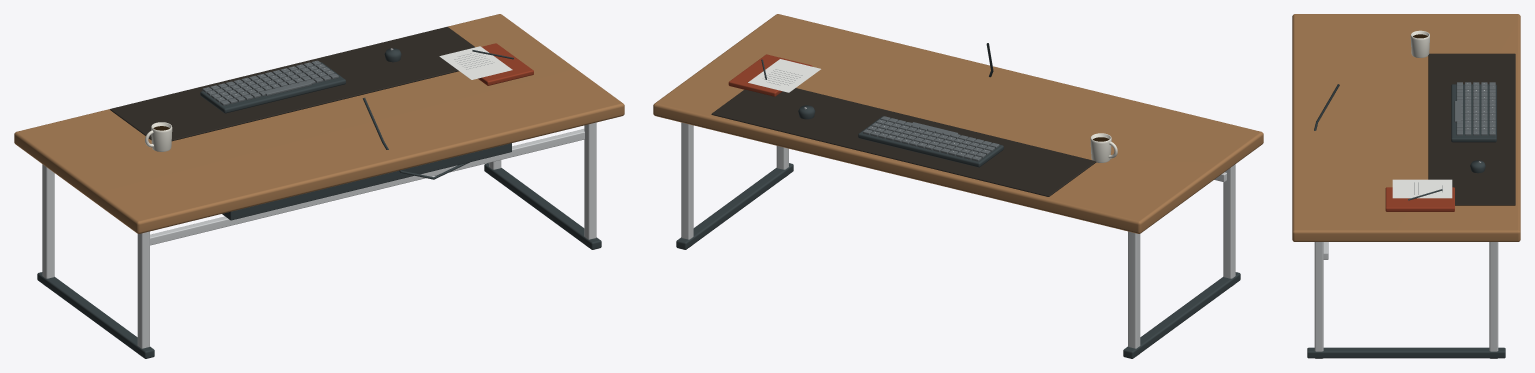
File: OfficeDesk.fbx
3 views of the same model, side by side, from view 1: azimuth 30°, elevation 25°; view 2: azimuth 150°, elevation 25°; view 3: azimuth 270°, elevation 25° (orthographic). The views are drawn at different scales.
Visible parts, largest first — view 1: GEO-WalnutDesktop, GEO-DeskPad, GEO-MAT-Plastic, GEO-MAT-Metal, GEO-MAT-Keycap, GEO-MAT-Shirt, GEO-Notebook, GEO-MAT-Ceramic; view 2: GEO-WalnutDesktop, GEO-DeskPad, GEO-MAT-Plastic, GEO-MAT-Metal, GEO-MAT-Keycap, GEO-MAT-Shirt, GEO-Notebook, GEO-MAT-Ceramic; view 3: GEO-WalnutDesktop, GEO-DeskPad, GEO-MAT-Plastic, GEO-MAT-Metal, GEO-MAT-Keycap, GEO-MAT-Shirt, GEO-Notebook, GEO-MAT-Ceramic.
Part boxes in pixels (x1,y1,x2,y2): GEO-WalnutDesktop: [14, 14, 624, 233]; GEO-DeskPad: [110, 26, 474, 141]; GEO-MAT-Plastic: [37, 48, 601, 358]; GEO-MAT-Metal: [42, 48, 596, 354]; GEO-MAT-Keycap: [202, 53, 492, 105]; GEO-MAT-Shirt: [439, 46, 512, 79]; GEO-Notebook: [478, 43, 533, 85]; GEO-MAT-Ceramic: [145, 122, 172, 151]; GEO-WalnutDesktop: [653, 14, 1263, 233]; GEO-DeskPad: [711, 88, 1096, 196]; GEO-MAT-Plastic: [676, 43, 1240, 358]; GEO-MAT-Metal: [681, 107, 1235, 354]; GEO-MAT-Keycap: [764, 69, 999, 161]; GEO-MAT-Shirt: [748, 59, 820, 92]; GEO-Notebook: [728, 54, 812, 96]; GEO-MAT-Ceramic: [1090, 133, 1117, 162]; GEO-WalnutDesktop: [1292, 14, 1520, 241]; GEO-DeskPad: [1428, 53, 1515, 205]; GEO-MAT-Plastic: [1307, 84, 1505, 358]; GEO-MAT-Metal: [1314, 161, 1498, 358]; GEO-MAT-Keycap: [1414, 82, 1495, 194]; GEO-MAT-Shirt: [1392, 179, 1452, 198]; GEO-Notebook: [1385, 187, 1454, 211]; GEO-MAT-Ceramic: [1410, 30, 1429, 57].
Size of the model in its own units: 2.6 by 0.983 by 1.15.
